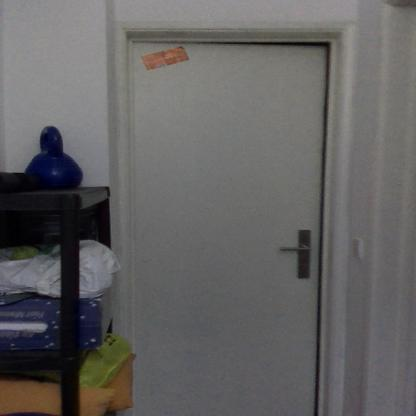door: (131, 40, 320, 416)
lever: (270, 245, 315, 254)
